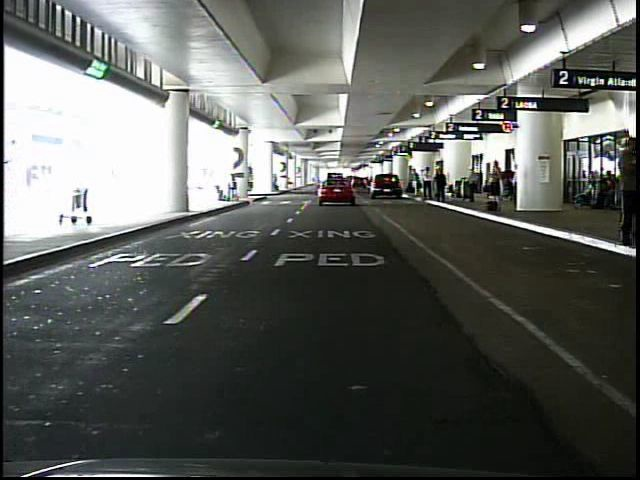person: (612, 137, 640, 254), (593, 165, 617, 207), (487, 161, 503, 212), (467, 166, 481, 204), (434, 169, 448, 204), (224, 173, 237, 203), (424, 166, 435, 201), (408, 166, 420, 198), (271, 173, 280, 190)
